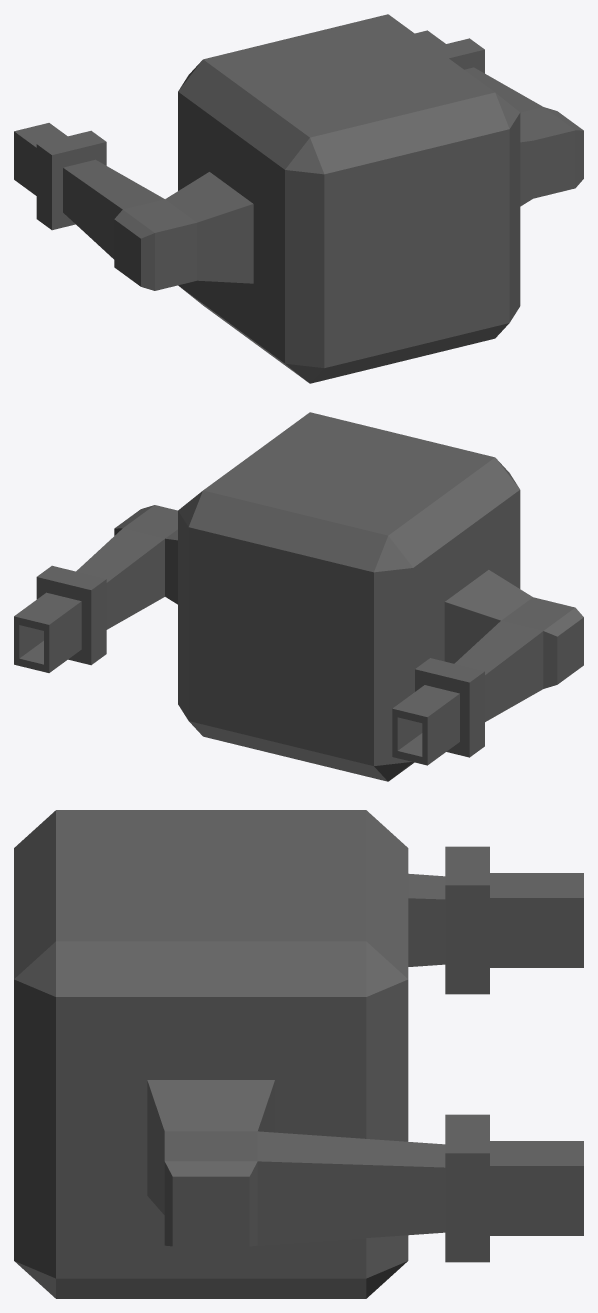
The model's file is TurretHeadTest.glb.
The picture shows the model from 3 angles, top to bottom: view 1: azimuth 30°, elevation 25°; view 2: azimuth 150°, elevation 25°; view 3: azimuth 270°, elevation 25°; orthographic projection. The views are drawn at different scales.
Parts seen in each view (by area): view 1: Cube; view 2: Cube; view 3: Cube.
Boxes of the visible parts, x1,y1,x2,y2 form: Cube: [14, 14, 583, 383]; Cube: [14, 412, 583, 781]; Cube: [14, 810, 583, 1298].
Bounding box in the file's own units: 3.77 × 2 × 2.89.
Materials: 1 (1 with a texture image).
